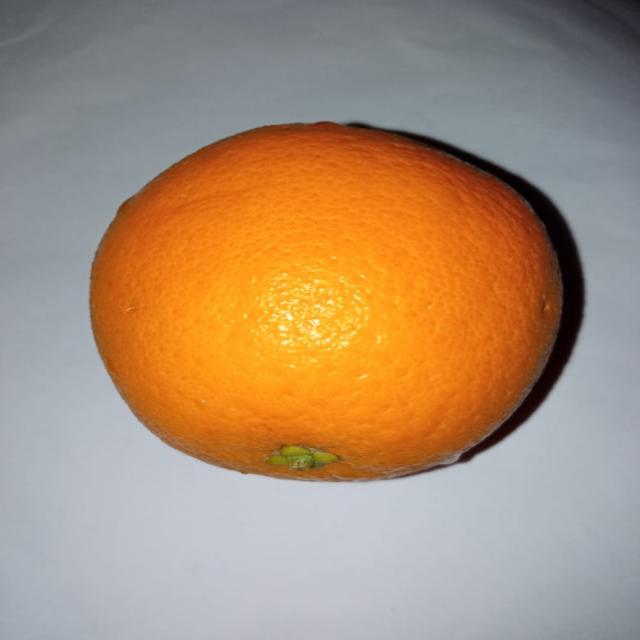fresh_orange: (87, 123, 564, 481)
